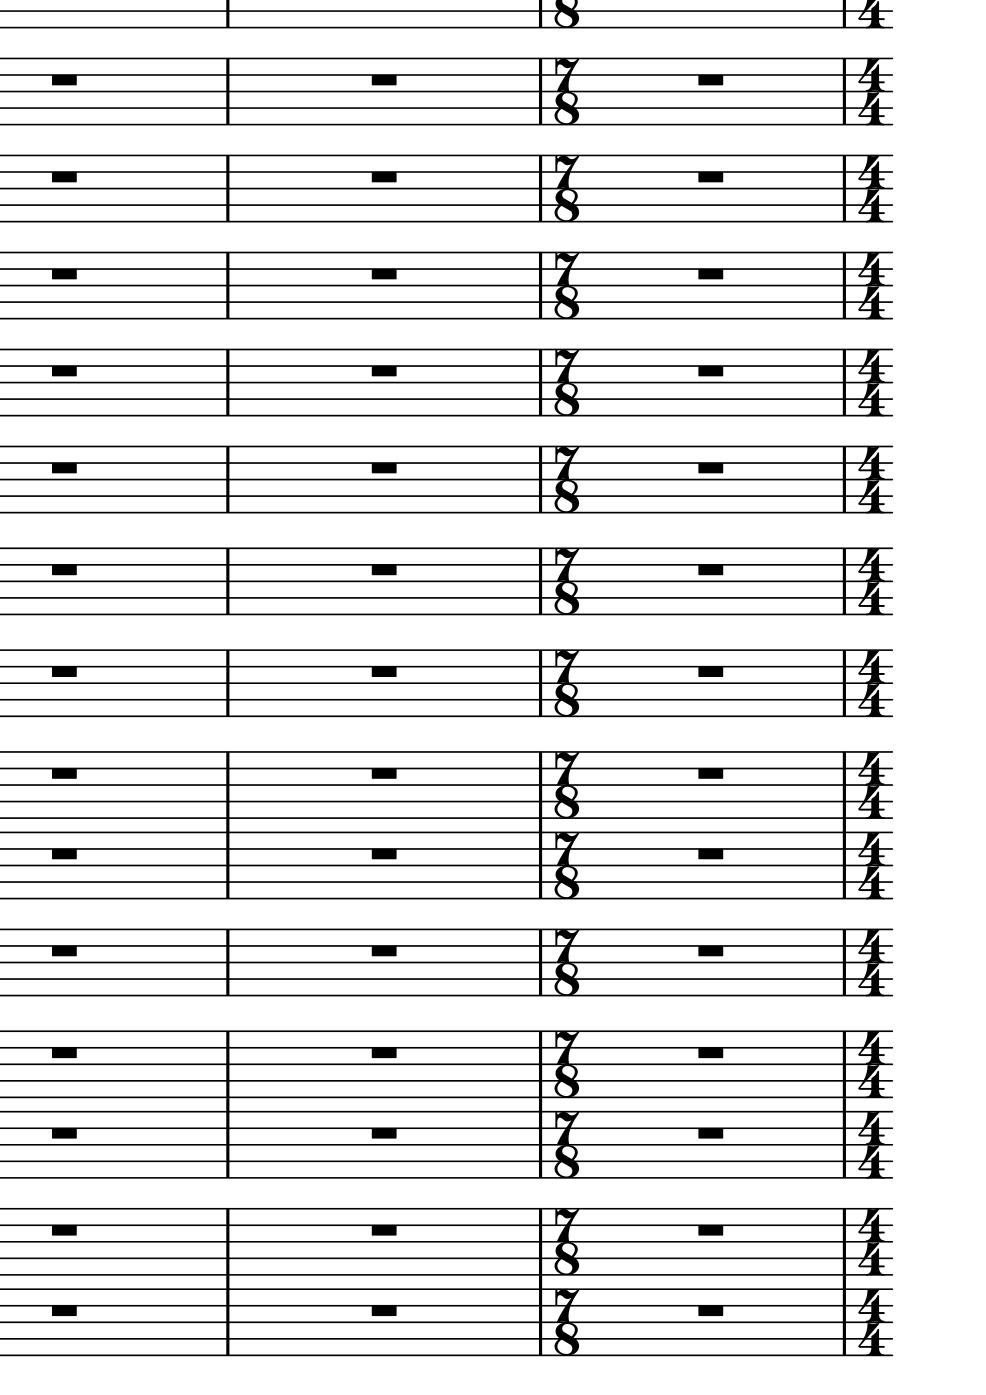4: (856, 546, 887, 582), (857, 348, 887, 384), (856, 1064, 887, 1098), (856, 154, 886, 189), (857, 251, 887, 286), (857, 1030, 887, 1065), (857, 57, 886, 93), (857, 649, 886, 685), (857, 830, 886, 867), (857, 928, 886, 964), (857, 1110, 886, 1146), (857, 1287, 886, 1323), (856, 1322, 887, 1356), (856, 479, 886, 513), (856, 784, 886, 819), (857, 445, 886, 480), (857, 1208, 886, 1243), (856, 92, 886, 125), (856, 286, 886, 319), (856, 383, 886, 416), (856, 582, 886, 615), (857, 866, 887, 899), (857, 963, 887, 996), (857, 684, 887, 716), (857, 189, 886, 222), (857, 751, 886, 784), (857, 1145, 886, 1178), (857, 1243, 886, 1277), (856, 1, 886, 28)
7: (552, 441, 584, 481), (548, 250, 582, 286), (551, 347, 582, 384), (550, 153, 581, 189), (548, 750, 581, 784), (551, 56, 581, 91), (548, 649, 579, 681), (553, 546, 581, 581), (553, 833, 581, 867)
8: (548, 478, 583, 513), (546, 286, 583, 319), (548, 784, 584, 818), (548, 383, 582, 417), (548, 91, 582, 125), (547, 190, 583, 222), (551, 580, 581, 617), (550, 683, 581, 717), (552, 866, 581, 902)
Rests1: (366, 1121, 402, 1144), (691, 1122, 728, 1145), (46, 1121, 81, 1144), (46, 359, 82, 381), (691, 661, 728, 683), (366, 762, 402, 784), (691, 842, 728, 865), (691, 360, 729, 381), (691, 457, 729, 478), (691, 763, 729, 784), (691, 1042, 729, 1063), (366, 660, 401, 682), (46, 842, 81, 865), (46, 1298, 81, 1320), (46, 263, 82, 284), (691, 263, 728, 284), (46, 457, 82, 478), (46, 762, 82, 783), (366, 842, 402, 863), (46, 1042, 82, 1063), (366, 1042, 402, 1063), (366, 1299, 402, 1320), (691, 167, 729, 187), (366, 360, 401, 381), (46, 661, 81, 682), (691, 559, 728, 580), (366, 1220, 402, 1240), (691, 1300, 728, 1320), (366, 263, 401, 283), (366, 457, 401, 477), (366, 558, 401, 578), (46, 940, 81, 961), (46, 1220, 81, 1240), (693, 1220, 728, 1240), (46, 167, 82, 186), (46, 559, 82, 578), (367, 939, 401, 960), (693, 940, 727, 961), (691, 70, 729, 89), (366, 167, 401, 186), (46, 70, 82, 88), (366, 70, 401, 88)
Single_barline: (219, 1273, 237, 1353), (219, 817, 237, 895), (219, 1097, 237, 1175), (532, 833, 552, 898), (532, 751, 550, 820), (532, 57, 548, 124), (532, 251, 548, 318), (532, 445, 548, 512), (532, 546, 548, 614), (532, 649, 548, 716), (219, 58, 235, 124), (532, 155, 548, 221), (219, 252, 235, 318), (532, 348, 548, 414), (219, 349, 235, 415), (219, 548, 235, 614), (219, 650, 235, 716), (219, 929, 235, 995), (532, 929, 548, 995), (219, 156, 235, 221), (219, 447, 235, 512), (837, 57, 850, 125), (837, 649, 850, 717), (837, 928, 850, 996), (837, 546, 850, 614), (837, 252, 850, 318), (837, 349, 850, 415), (837, 446, 850, 512), (837, 156, 850, 221), (220, 752, 235, 810), (220, 1032, 235, 1090), (220, 1211, 234, 1267)
TimeSig: (855, 57, 888, 127), (855, 649, 888, 719), (855, 928, 888, 998), (855, 252, 888, 321), (855, 349, 888, 418), (855, 548, 888, 617), (855, 155, 888, 223), (856, 445, 888, 516), (856, 1110, 888, 1180), (856, 831, 888, 901), (857, 1285, 888, 1357), (856, 1208, 888, 1277), (856, 752, 888, 820), (856, 1031, 887, 1099), (552, 347, 581, 419), (553, 57, 581, 128), (553, 154, 581, 225), (553, 251, 581, 322), (553, 444, 581, 516), (553, 546, 581, 618), (553, 928, 581, 999), (553, 649, 581, 719), (553, 1207, 581, 1277), (553, 1286, 579, 1358), (554, 829, 579, 902), (553, 751, 579, 821), (554, 1109, 579, 1180)
